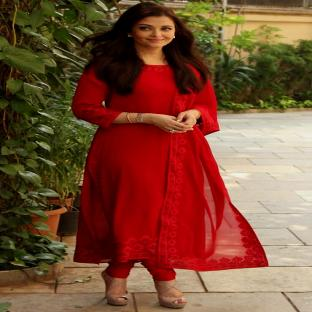Human: (73, 2, 268, 308)
